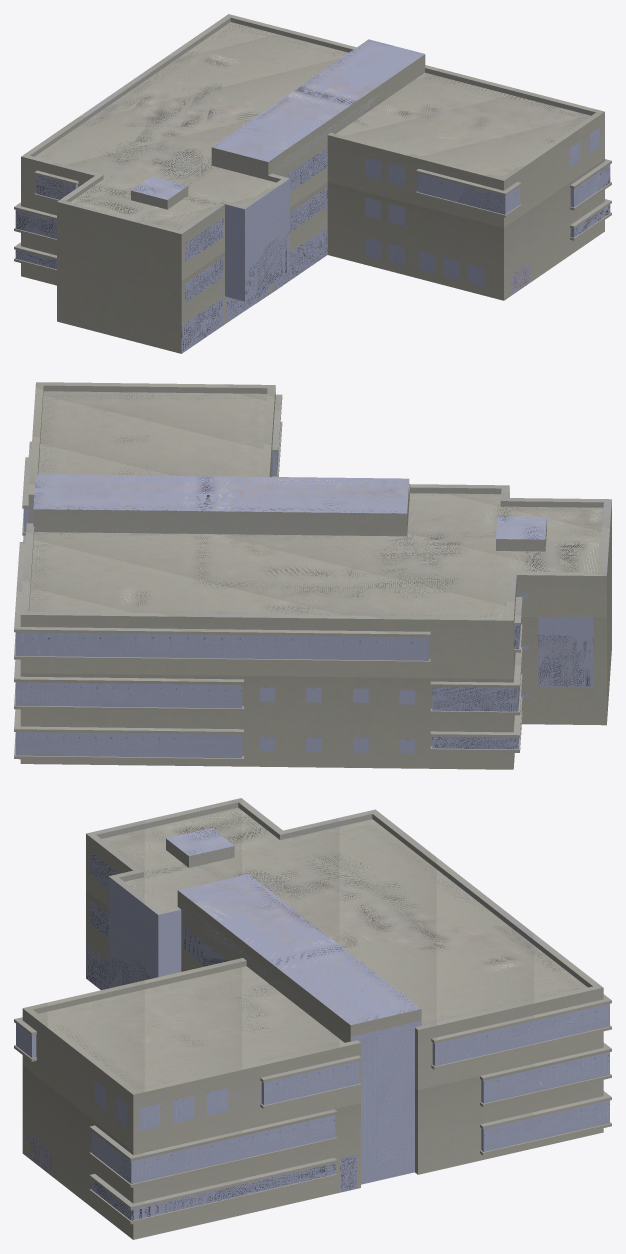
The model's file is laboratorio_final.fbx.
3 views of the same model, one above another, from view 1: azimuth 30°, elevation 25°; view 2: azimuth 150°, elevation 25°; view 3: azimuth 270°, elevation 25° (orthographic). The views are drawn at different scales.
Visible parts, largest first — view 1: Model; view 2: Model; view 3: Model.
Boxes of the visible parts, <box> form: Model: <box>14,14,611,353</box>; Model: <box>14,382,611,769</box>; Model: <box>14,798,611,1239</box>.
Size of the model in its own units: 46.64 by 11.7 by 39.2.
